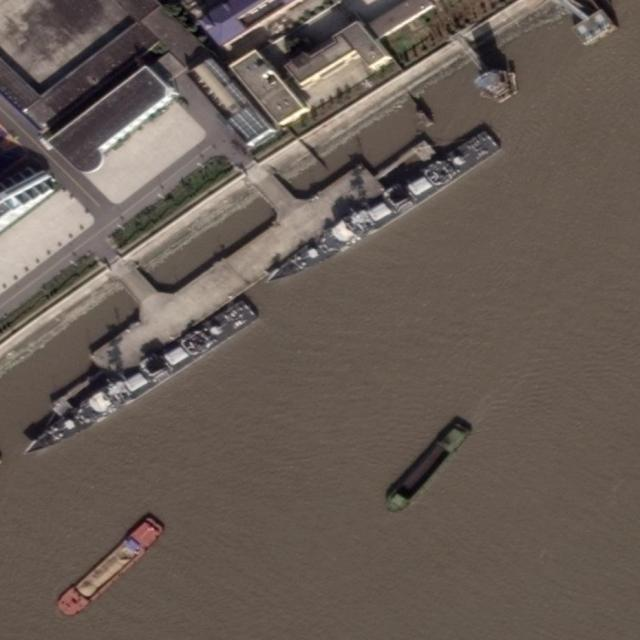Cargo: (52, 513, 168, 623), (376, 414, 476, 519)
Frigate: (19, 293, 259, 467), (264, 125, 500, 298)
